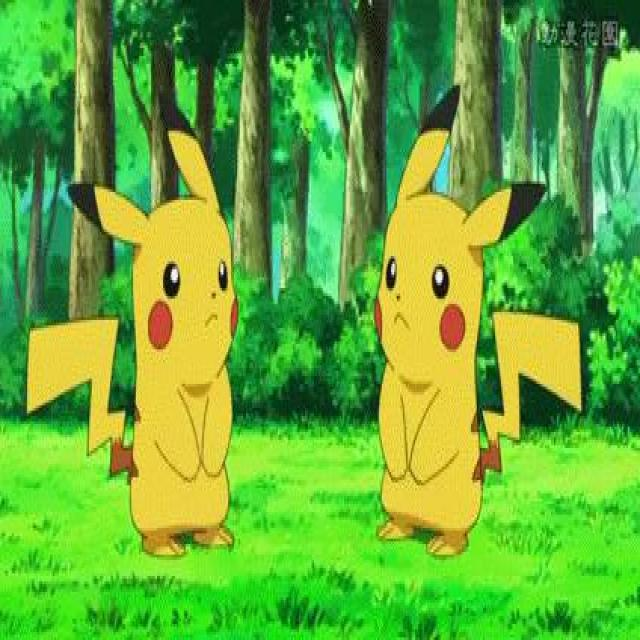pikachu: (373, 83, 586, 560), (25, 93, 242, 557)
